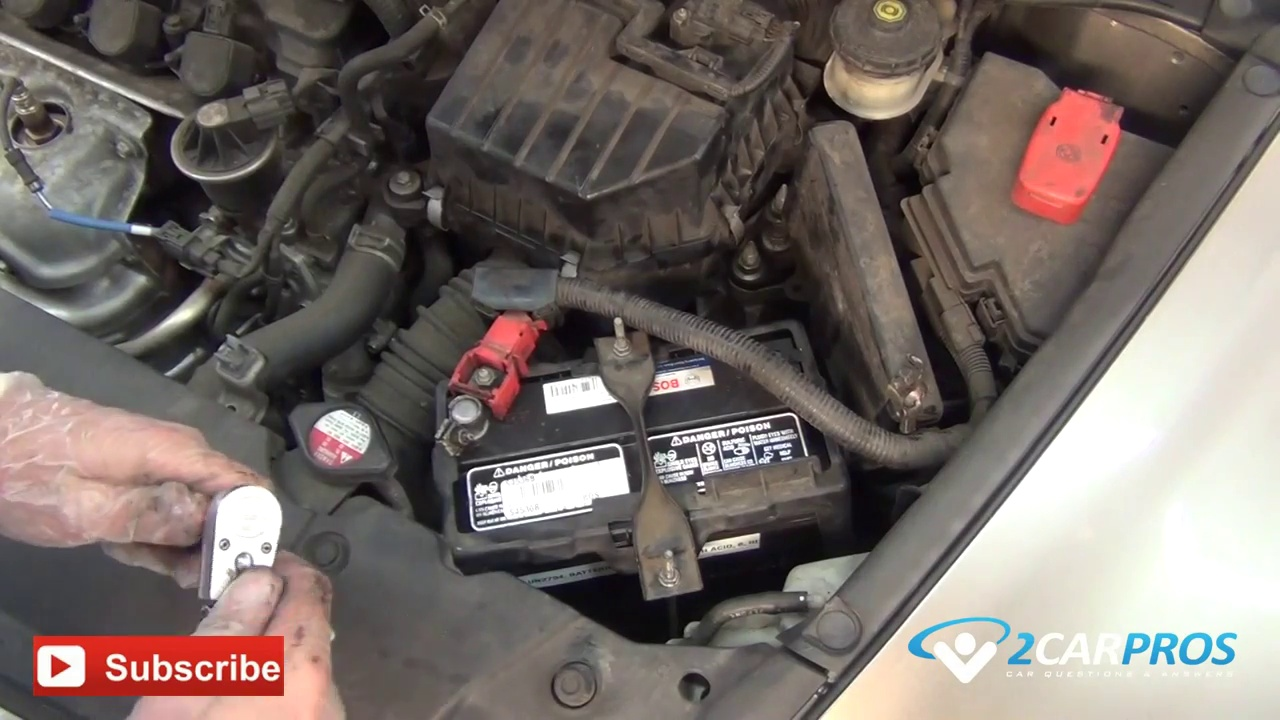battery: (425, 301, 870, 581)
pos_connected: (432, 302, 568, 467)
